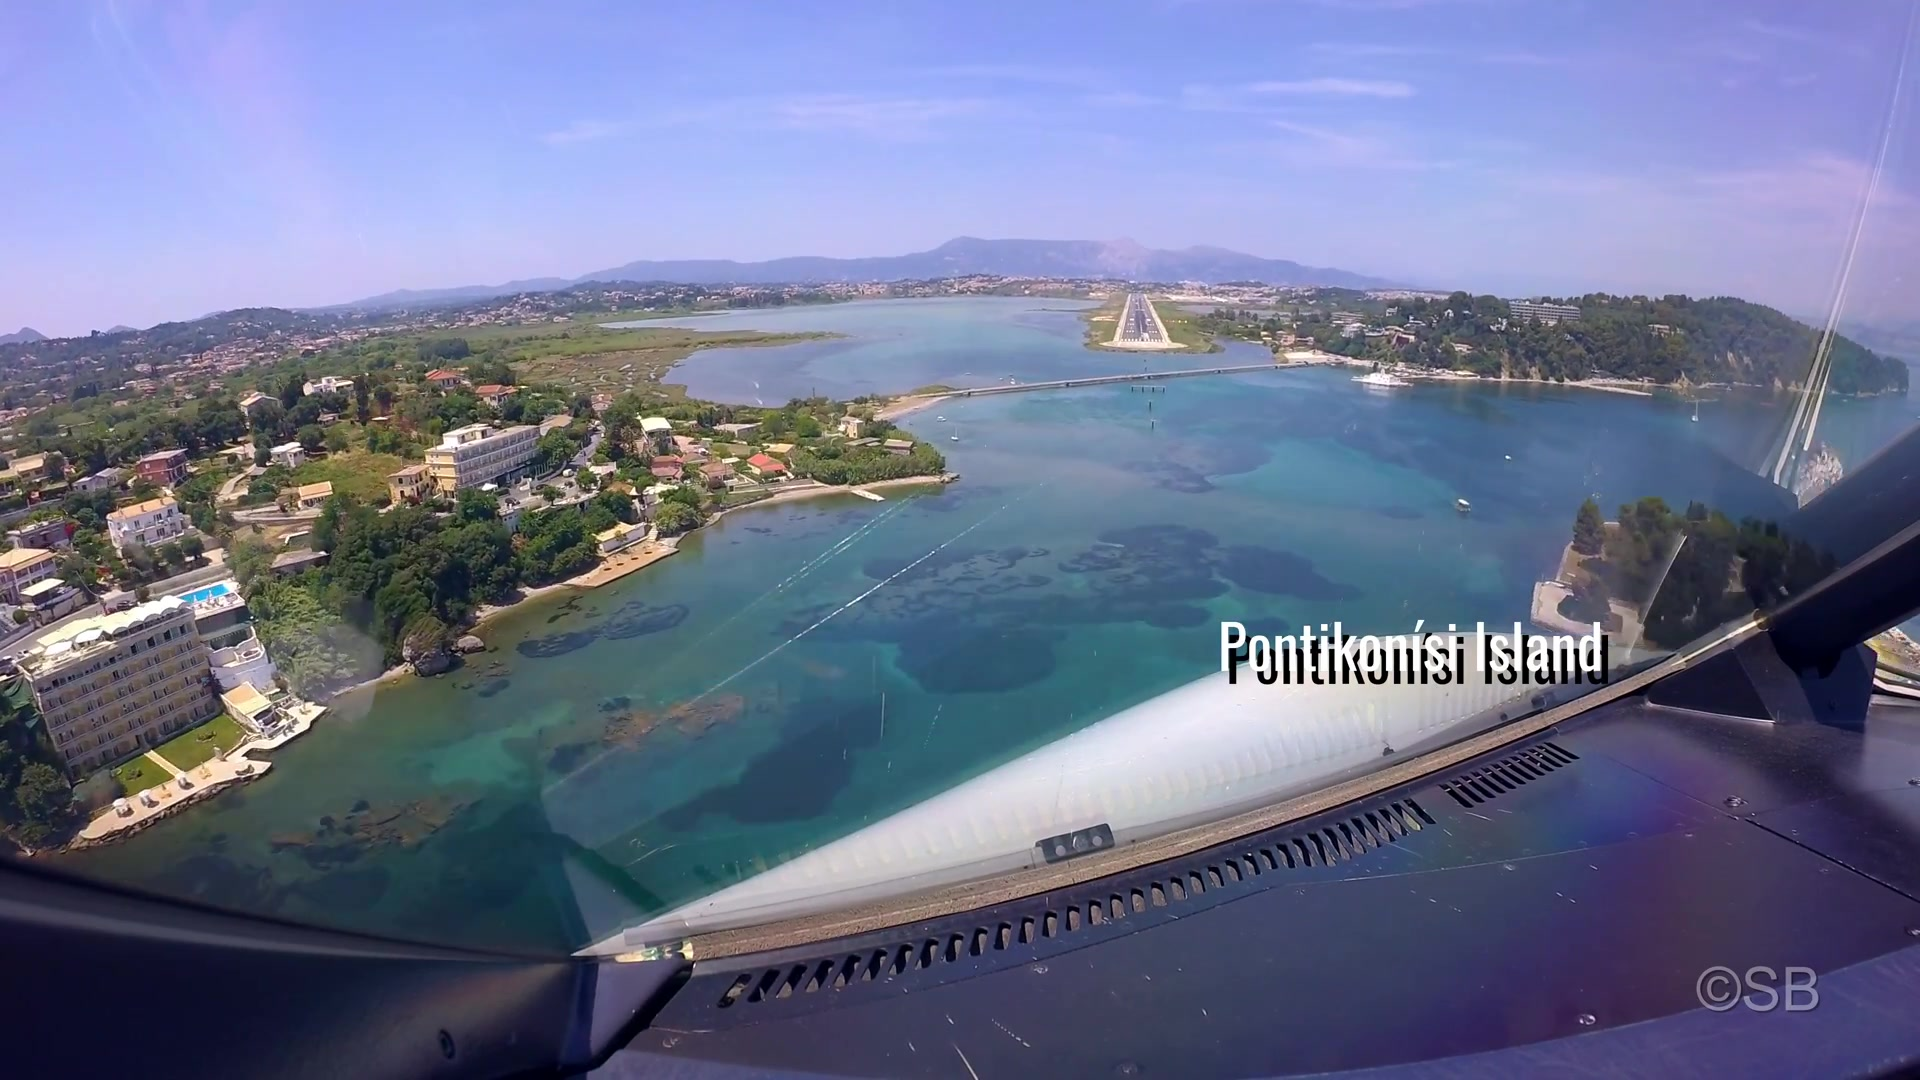entrance: (1120, 338, 1167, 344)
runway: (1116, 295, 1167, 344)
